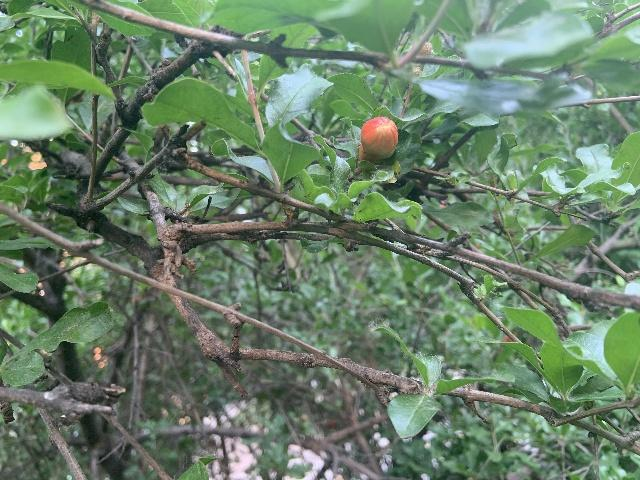bud: (359, 116, 398, 163)
